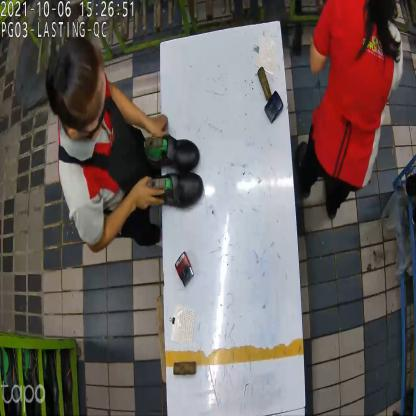shoes: (141, 132, 205, 212)
stamp: (263, 90, 285, 122), (176, 247, 193, 282)
